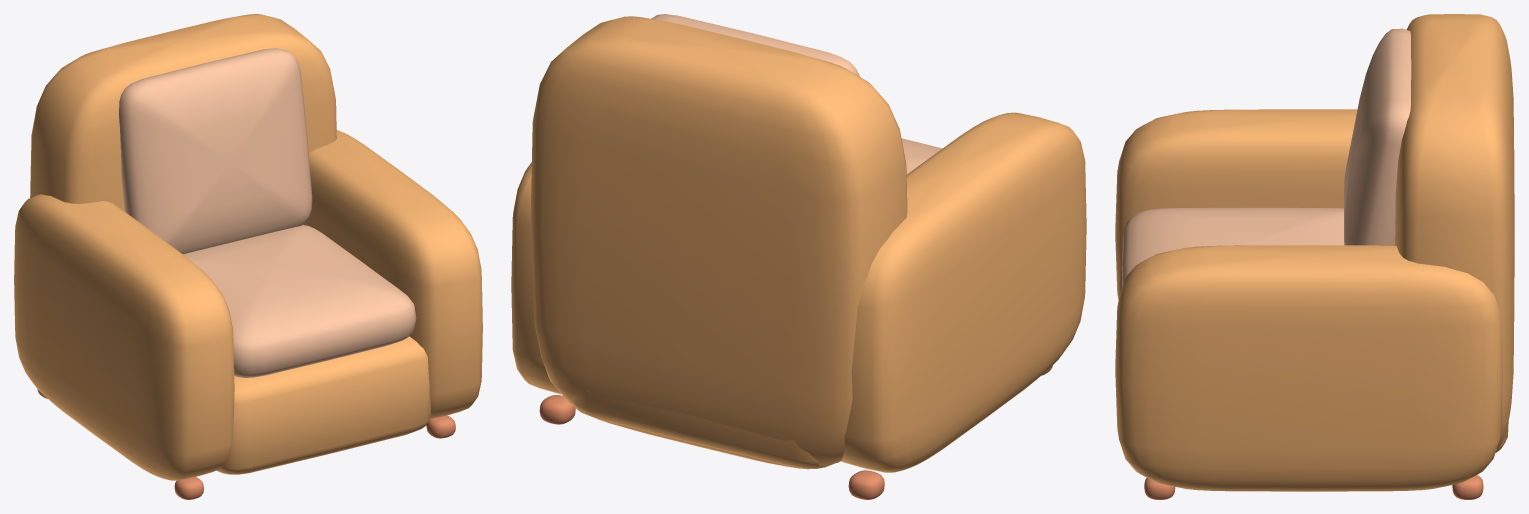
The model's file is poltrona_grande_pessego.glb.
3 renders of one model, left to right at view 1: azimuth 30°, elevation 25°; view 2: azimuth 150°, elevation 25°; view 3: azimuth 270°, elevation 25°, orthographic. The views are drawn at different scales.
Visible parts, largest first — view 1: poltrona_grande_pessego; view 2: poltrona_grande_pessego; view 3: poltrona_grande_pessego.
Boxes of the visible parts, x1,y1,x2,y2 form: poltrona_grande_pessego: [14, 14, 482, 499]; poltrona_grande_pessego: [511, 14, 1086, 499]; poltrona_grande_pessego: [1115, 14, 1514, 499].
Bounding box in the file's own units: 0.94 × 0.915 × 0.895.
1 material, 1 textured.
